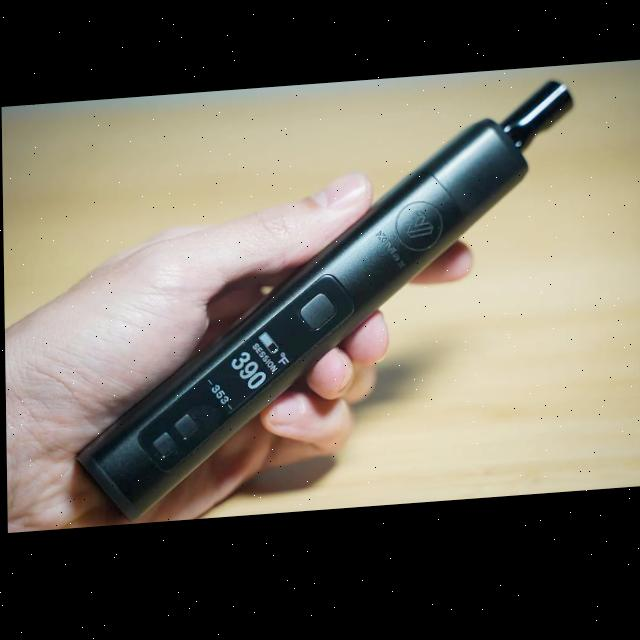vape: (64, 88, 578, 529)
